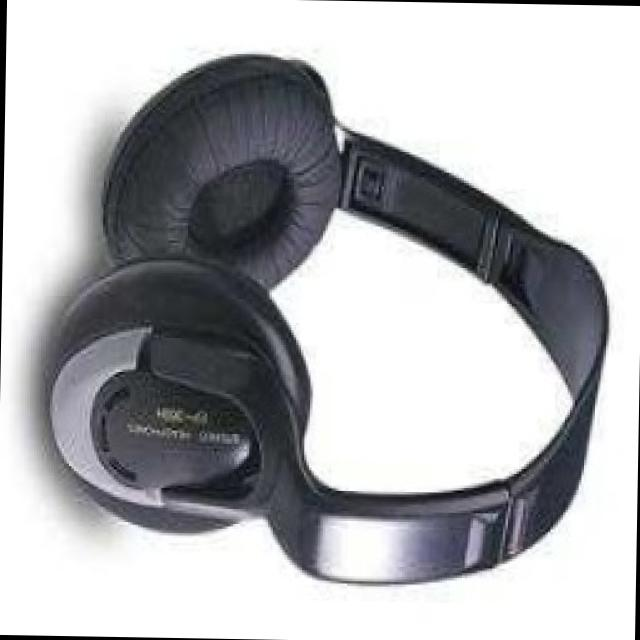kulaklik: (31, 39, 629, 624)
